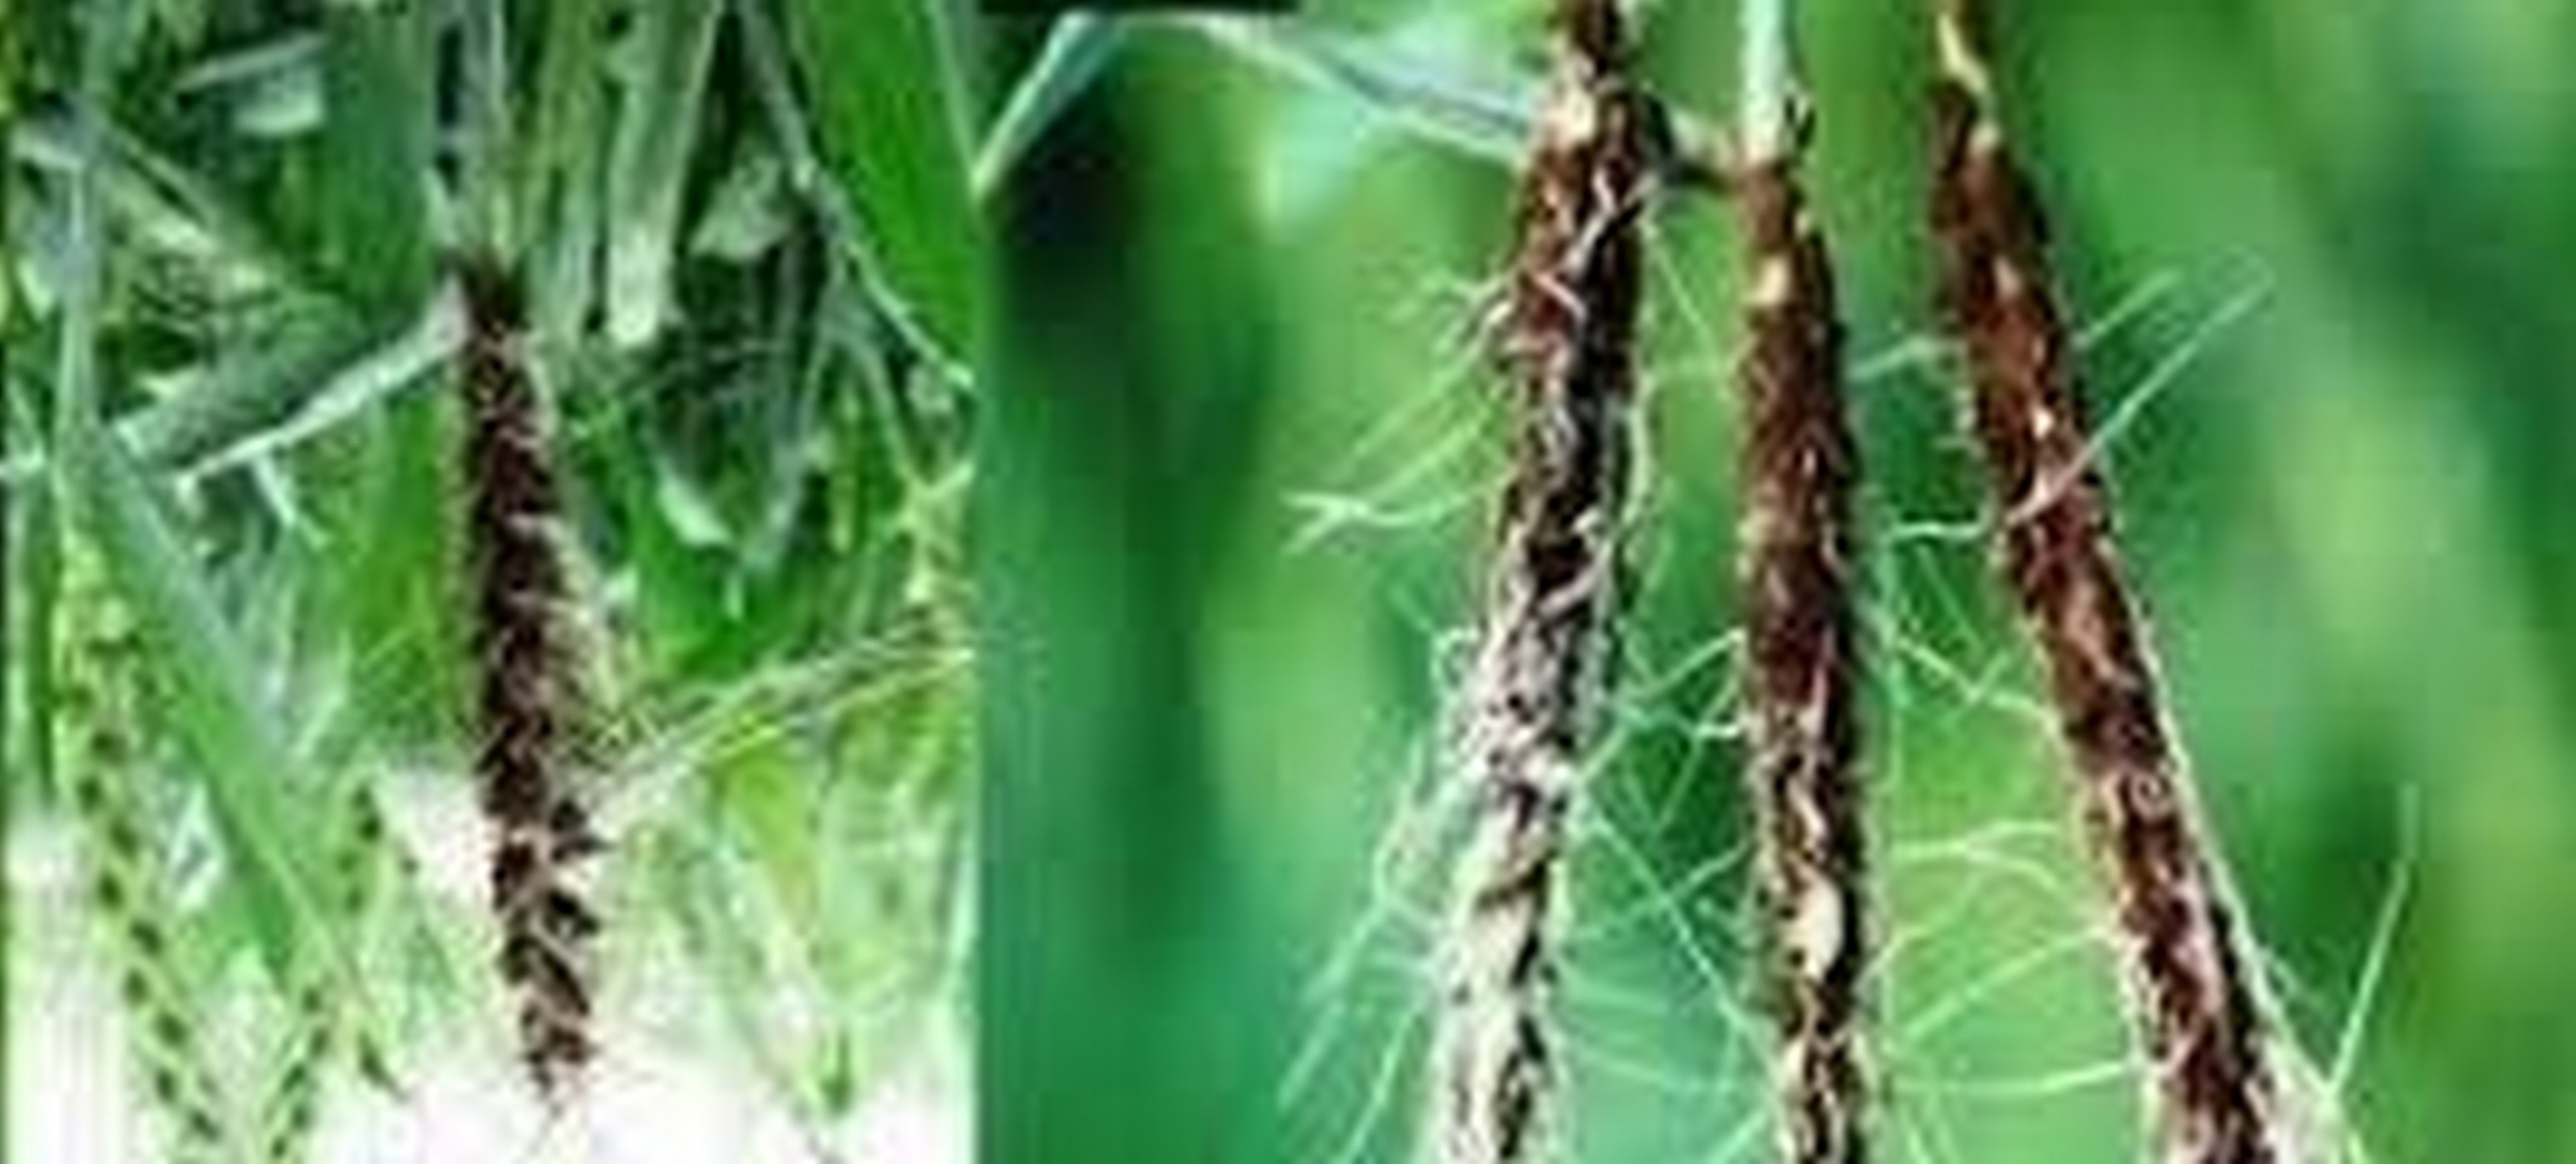Wheat Loose Smut: (1442, 112, 2275, 1098)
